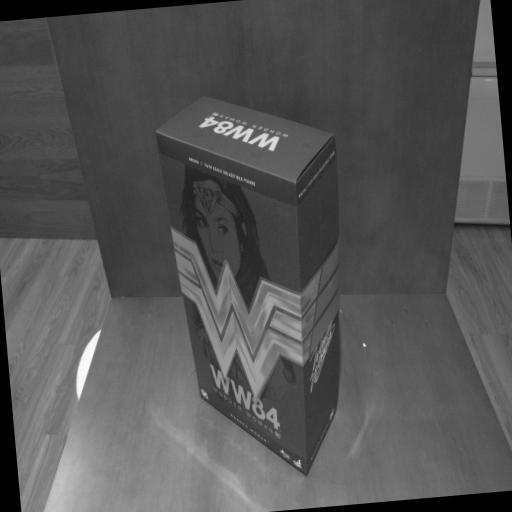WonderWoman: (153, 84, 366, 488)
